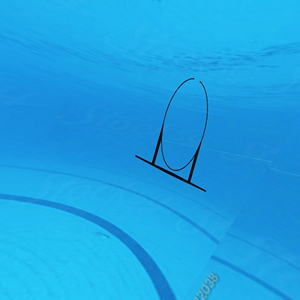circle: (134, 72, 216, 195)
